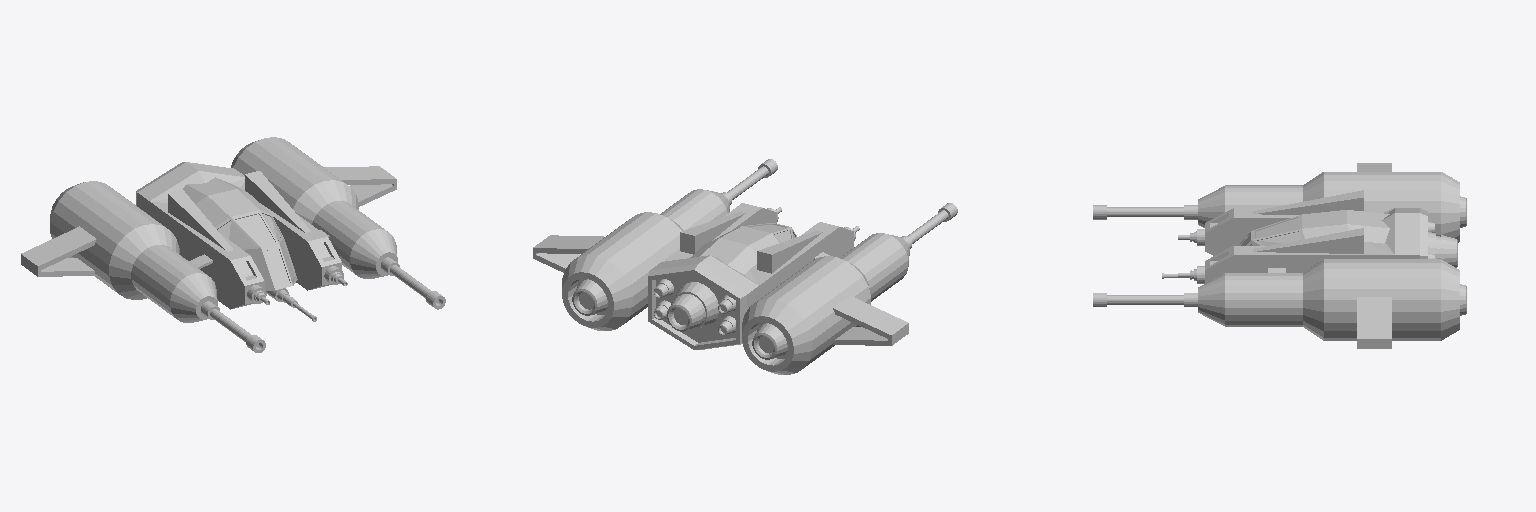
File: finalship.obj
3 renders of one model, left to right at view 1: azimuth 30°, elevation 25°; view 2: azimuth 150°, elevation 25°; view 3: azimuth 270°, elevation 25°, orthographic.
Parts seen in each view (by area): view 1: Cube; view 2: Cube; view 3: Cube.
Part boxes in pixels (x1,y1,x2,y2): Cube: (21,137,445,352); Cube: (533,159,957,374); Cube: (1093,163,1466,348).
Bounding box in the file's own units: 9 × 2.08 × 8.12.